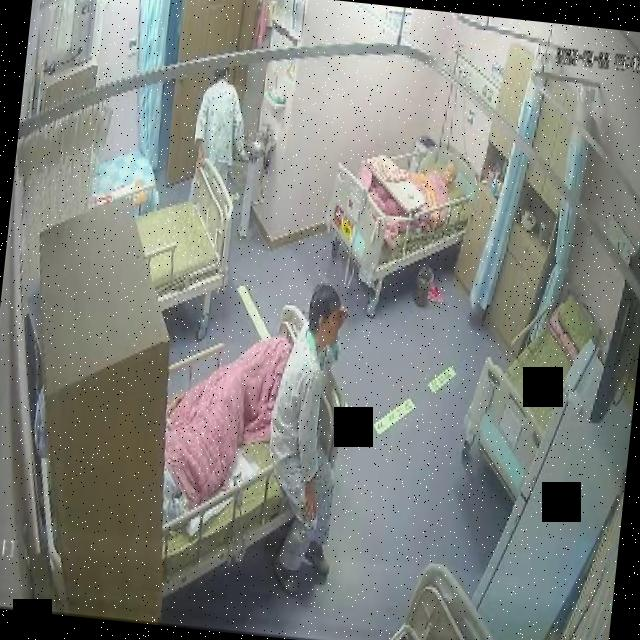bed: (148, 294, 356, 576), (306, 114, 478, 318), (454, 294, 594, 508), (126, 148, 240, 318)
patient: (245, 282, 362, 592), (188, 58, 260, 177)
sit: (247, 282, 362, 590)
stand: (192, 58, 260, 174)
